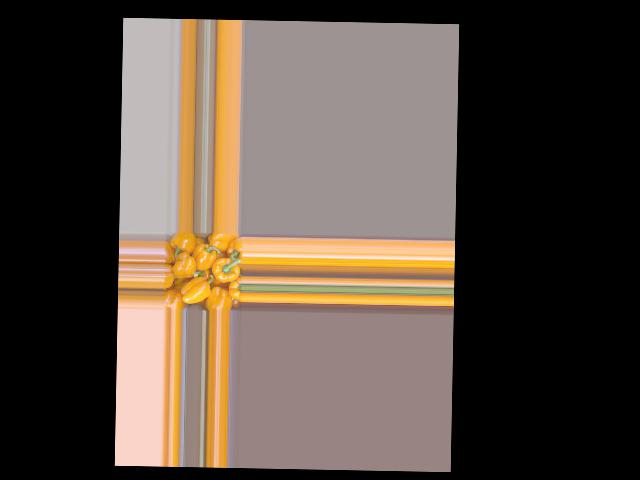bell_pepper: (163, 239, 181, 269)
